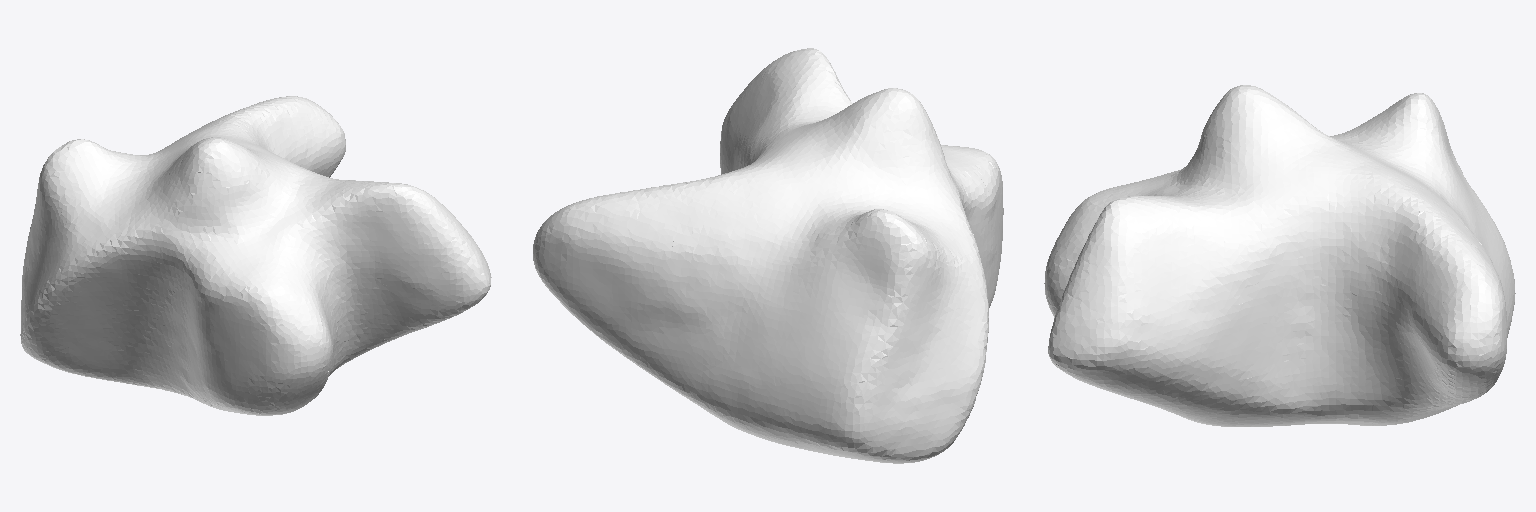
The robot description file, URDF, robot "feelie9":
<robot name="feelie9">
	<link name="_name">
		<visual>
			<origin rpy="0 0 0" xyz="0.0021714280151415816 -0.004378058406394448 0.002672180656699342" />
			<geometry>
				<mesh filename="feelie9.obj" scale="0.001 0.001 0.001" />
			</geometry>
			<material name="texture">
				<color rgba="1.0 1.0 1.0 1.0" />
			</material>
		</visual>
		<collision>
			<geometry>
				<mesh filename="feelie9_vhacd.obj" scale="0.001 0.001 0.001" />
			</geometry>
		<origin rpy="0 0 0" xyz="0.0021714280151415816 -0.004378058406394448 0.002672180656699342" /></collision>
		<inertial>
			<mass value="1.0" />
			<inertia ixx="1.0" ixy="0.0" ixz="0.0" iyy="1.0" iyz="0.0" izz="1.0" />
		</inertial>
	</link>
</robot>

--- What the picture shows (computed from the rendered views, not written in the file) ---
Views: 3 orthographic renders of the robot side by side, from view 1: azimuth 30°, elevation 25°; view 2: azimuth 150°, elevation 25°; view 3: azimuth 270°, elevation 25°.
Model feelie9 with 1 links and 0 joints (none), rooted at _name, posed all joints at 0.
Visible links, largest first — view 1: _name; view 2: _name; view 3: _name.
Boxes of the visible links, x1,y1,x2,y2 form: _name: (20,96,491,415); _name: (533,48,1003,463); _name: (1044,85,1515,426).
Size in the robot's own frame: 0.0793 by 0.0782 by 0.0592 metres.
1 mesh visuals loaded from 1 distinct referenced files (1 OBJ).
